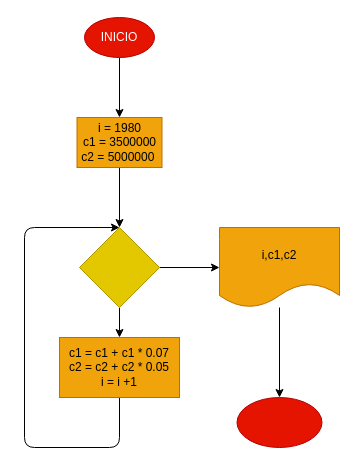
Some shapes in this 357 by 473 pixel diagram are drawn without their labels. The shapes that lost their labels are listed below. From the top down, each one's centre as x and y in pixels, then its label:
At (x=119, y=267): "c2 > c1".
At (x=279, y=422): "FIN".
